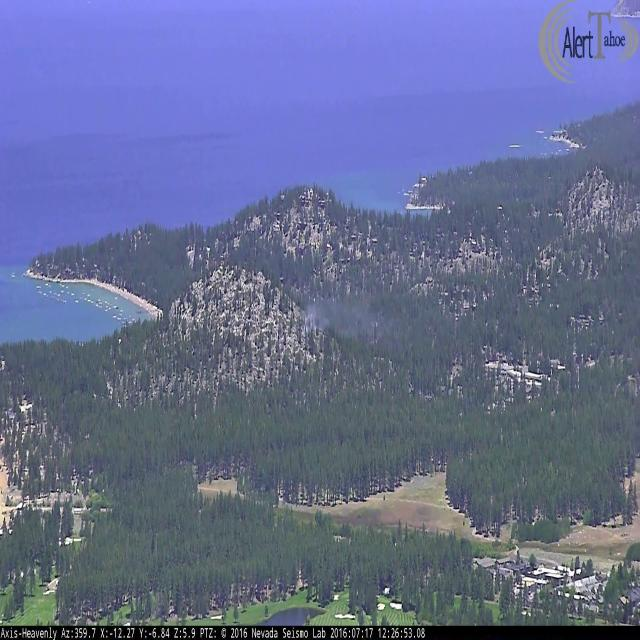smoke: (302, 293, 412, 339)
